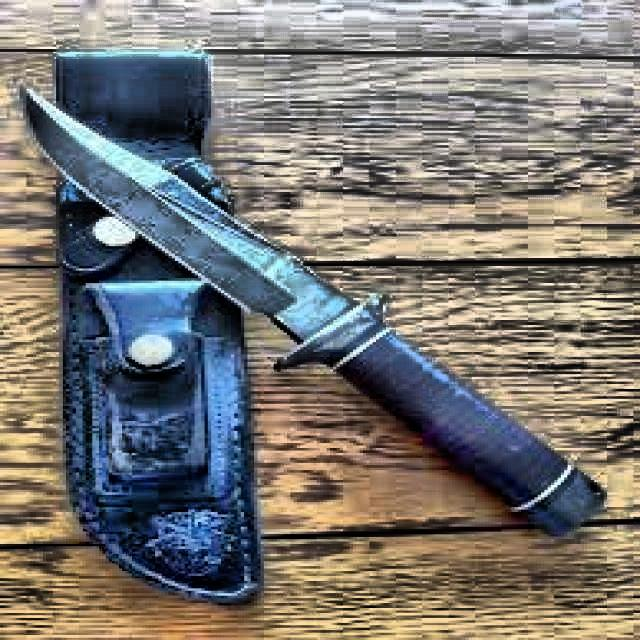knife: (14, 75, 614, 546)
